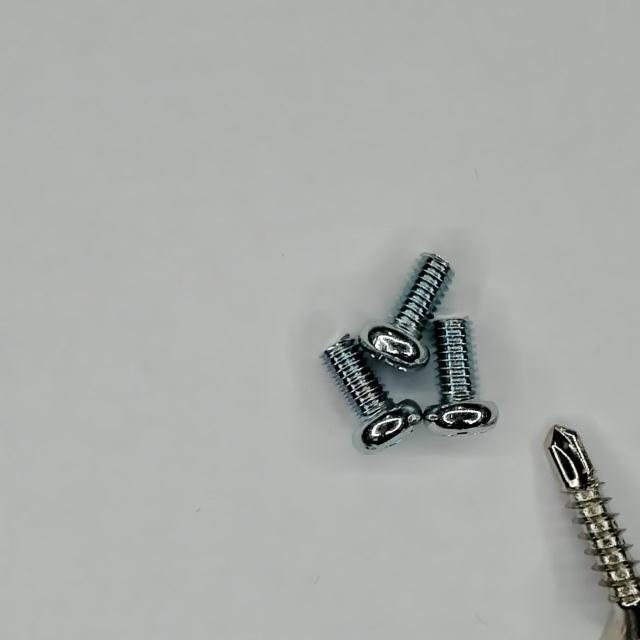Screw: (547, 426, 640, 640), (323, 335, 423, 452), (361, 254, 454, 370), (424, 319, 499, 436)
